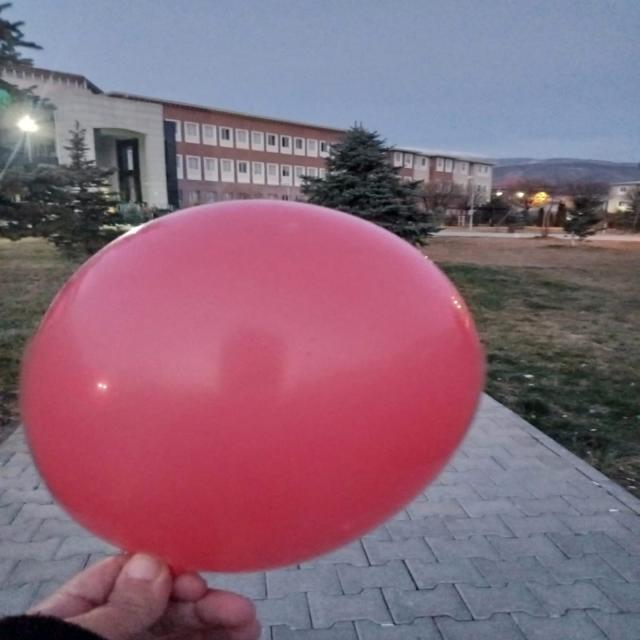balloon: (19, 200, 484, 572)
